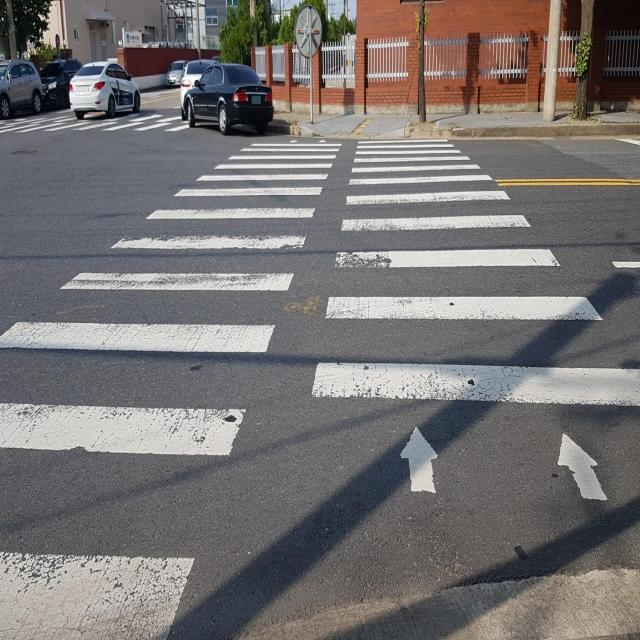횡단보도: (0, 134, 640, 640), (0, 112, 211, 136)
